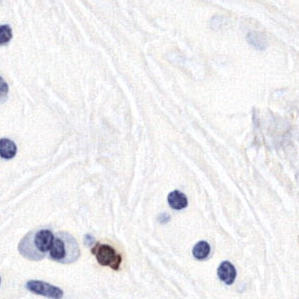Lymphocyte: (91, 241, 124, 271)
